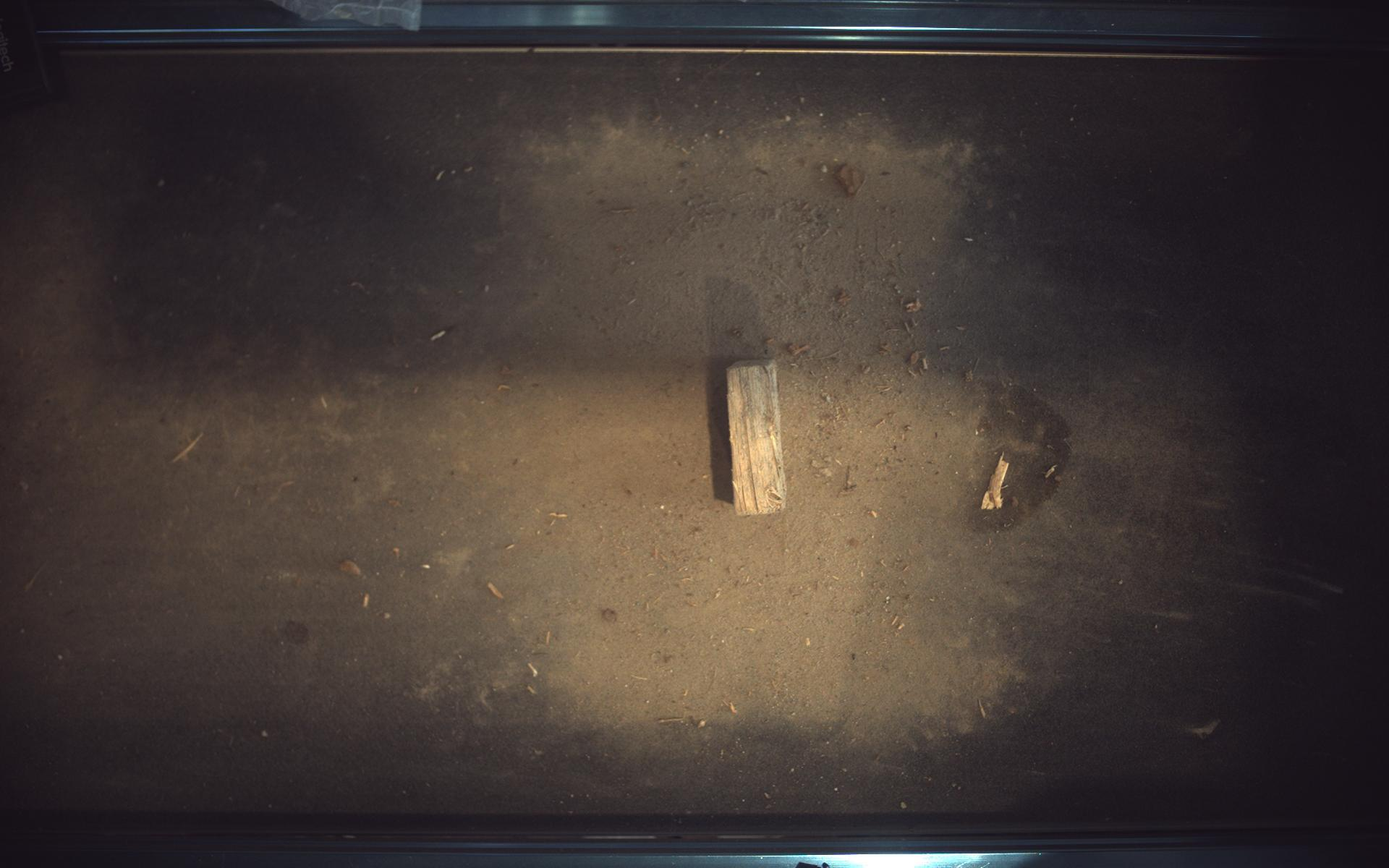wood: (728, 359, 787, 516)
